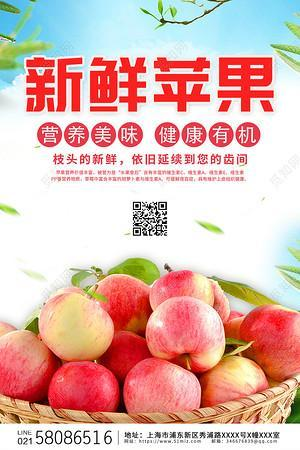apple: (144, 297, 224, 374), (38, 285, 114, 360), (1, 326, 59, 401), (121, 359, 201, 412), (195, 354, 270, 407)
